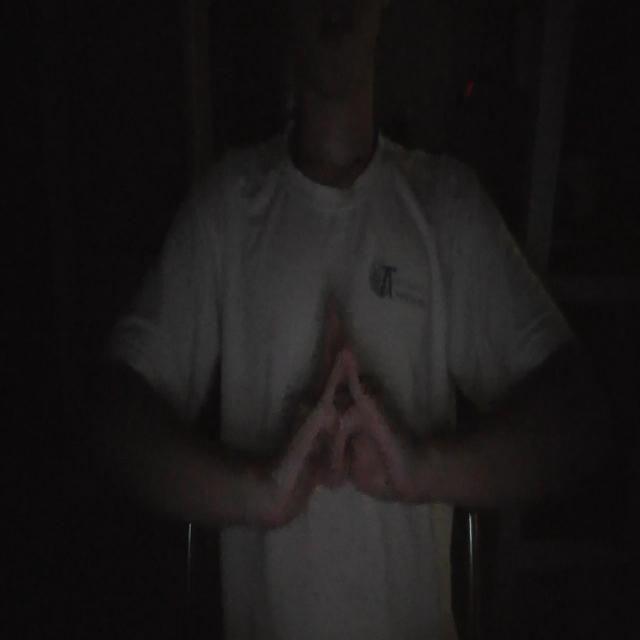bird: (270, 292, 410, 524)
